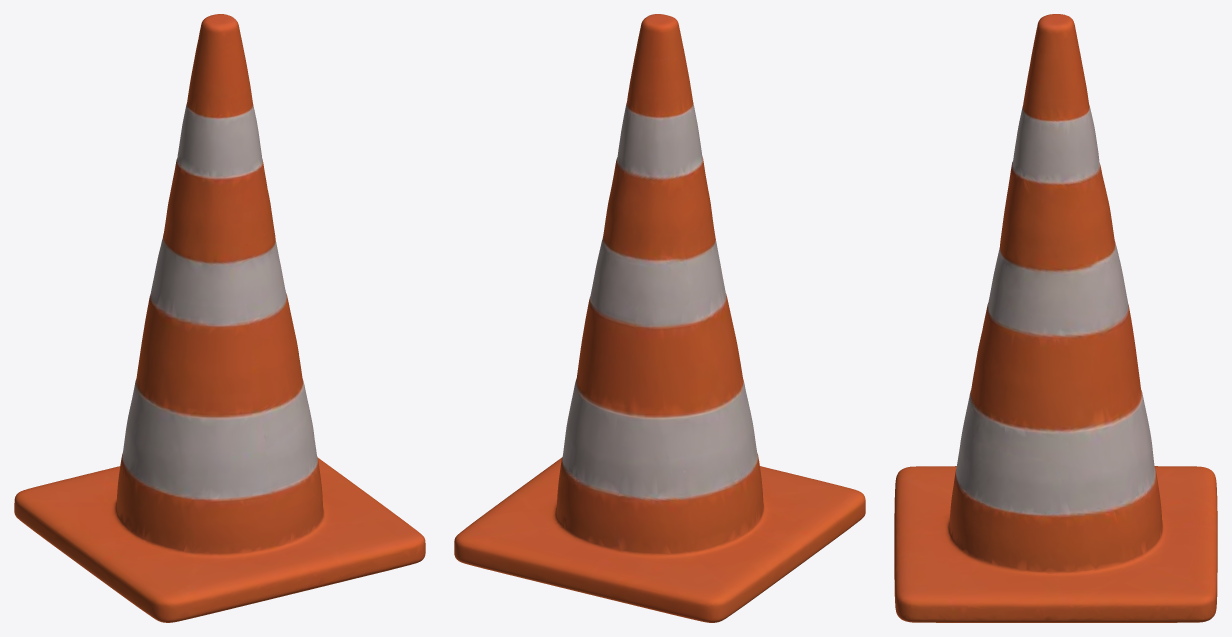
The model's file is traffic-cone.glb.
3 renders of one model, left to right at view 1: azimuth 30°, elevation 25°; view 2: azimuth 150°, elevation 25°; view 3: azimuth 270°, elevation 25°, orthographic. The views are drawn at different scales.
Visible parts, largest first — view 1: tripo_node_df274800-cc70-4383-8d65-8576578e66c9; view 2: tripo_node_df274800-cc70-4383-8d65-8576578e66c9; view 3: tripo_node_df274800-cc70-4383-8d65-8576578e66c9.
Part boxes in pixels (x1,y1,x2,y2): tripo_node_df274800-cc70-4383-8d65-8576578e66c9: [14, 14, 425, 622]; tripo_node_df274800-cc70-4383-8d65-8576578e66c9: [454, 14, 865, 622]; tripo_node_df274800-cc70-4383-8d65-8576578e66c9: [894, 14, 1217, 622].
Bounding box in the file's own units: 0.5485 × 1 × 0.5427.
1 material, 1 textured.
